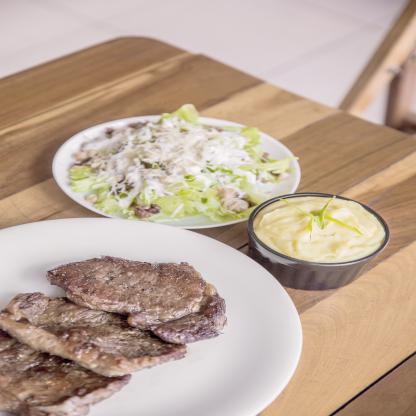Carne: (41, 254, 226, 347), (1, 291, 182, 375), (1, 331, 129, 415)
